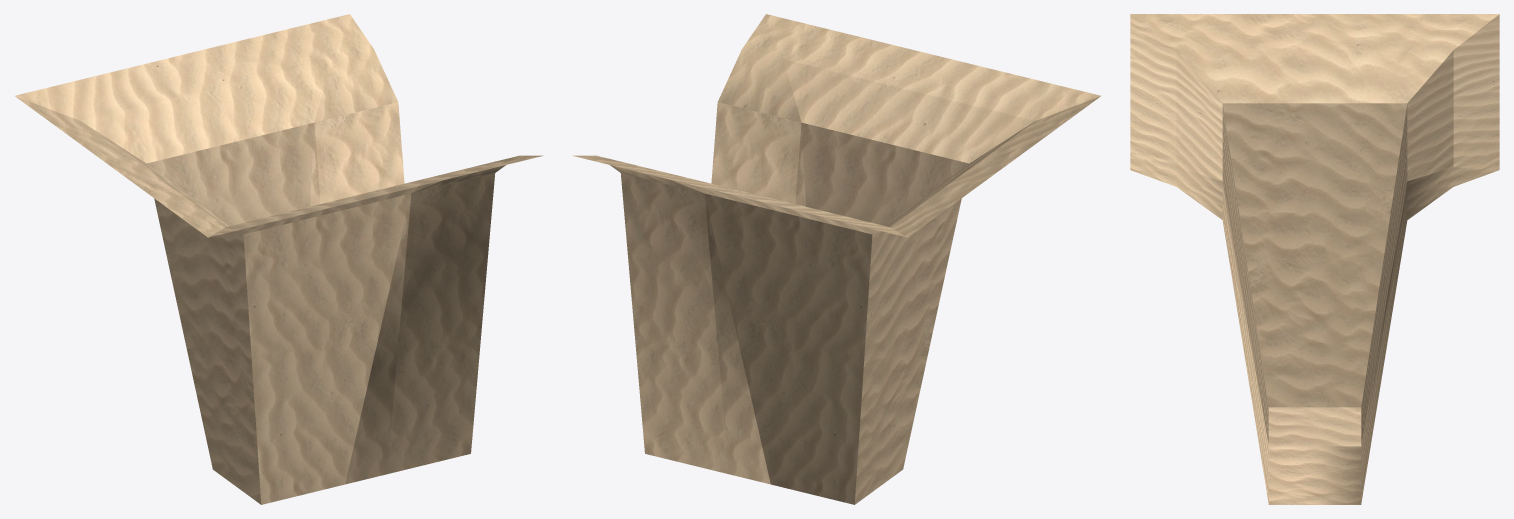
File: Sand1a.obj
The picture shows the model from 3 angles, left to right: view 1: azimuth 30°, elevation 25°; view 2: azimuth 150°, elevation 25°; view 3: azimuth 270°, elevation 25°; orthographic projection. The views are drawn at different scales.
Parts seen in each view (by area): view 1: Grid_Grid.008_Grid_Grid.007; view 2: Grid_Grid.008_Grid_Grid.007; view 3: Grid_Grid.008_Grid_Grid.007.
Part boxes in pixels (x1,y1,x2,y2): Grid_Grid.008_Grid_Grid.007: [15, 14, 543, 504]; Grid_Grid.008_Grid_Grid.007: [572, 14, 1100, 504]; Grid_Grid.008_Grid_Grid.007: [1130, 14, 1499, 504].
Size of the model in its own units: 1 by 1 by 1.
